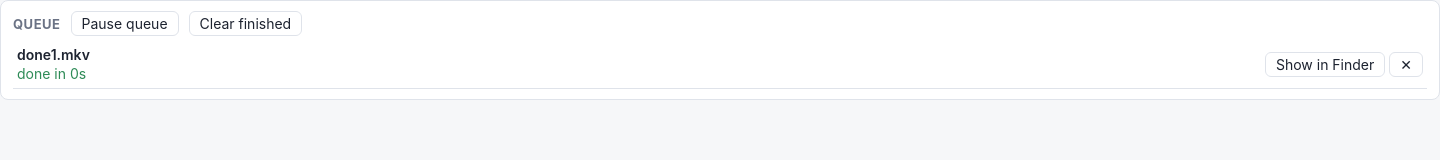
Test case: QueuePane › shows why Show couldn't reveal the file
Click the button "Show in Finder": (1325, 64) [1265,52,1385,76]
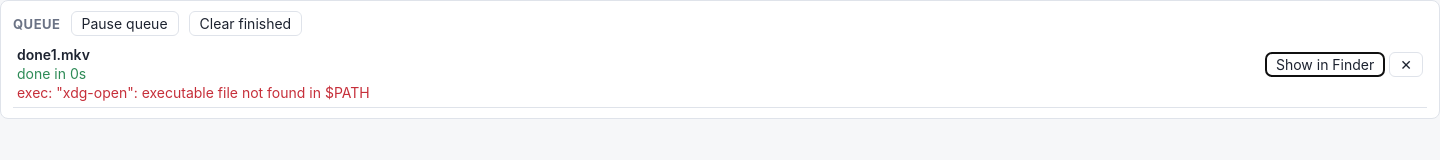
Check: the text "exec: \"xdg-open\": executable file not found in $PATH" is shown, box [17,84,370,101]
